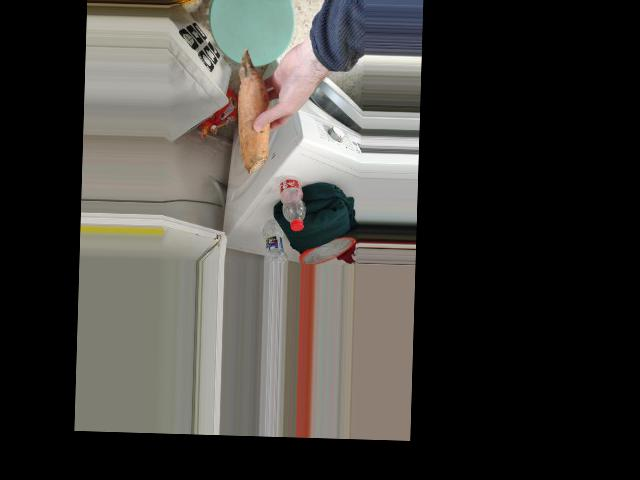sweet_potato: (233, 57, 277, 165)
